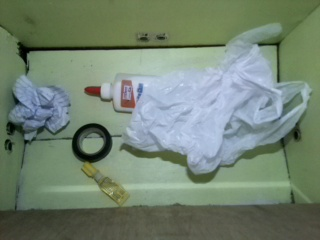paper: (7, 75, 72, 143)
plastic-bag: (120, 21, 312, 178)
